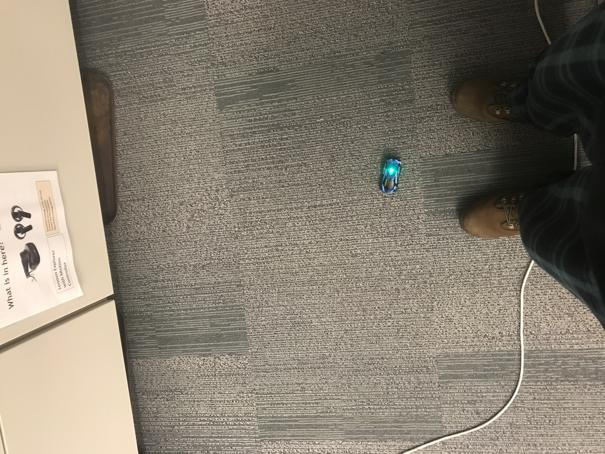Shock: (378, 156, 402, 194)
